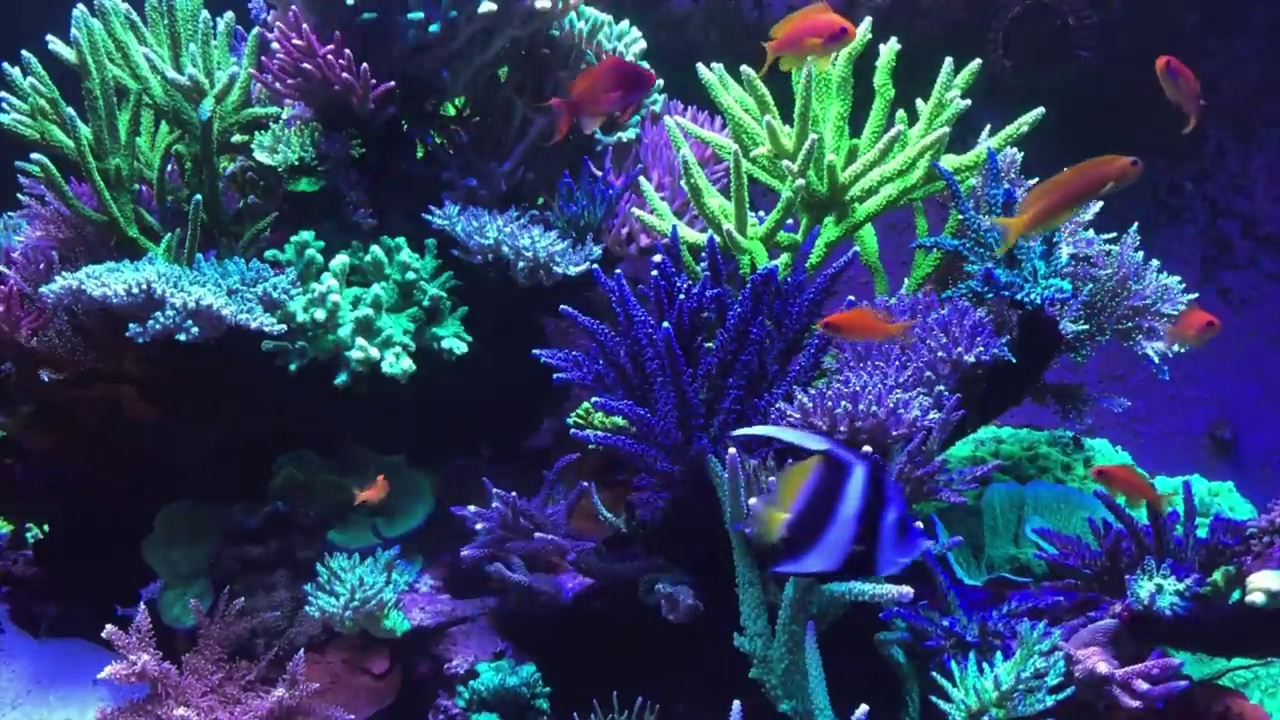fish: (727, 424, 929, 580), (996, 150, 1140, 257), (527, 41, 656, 149), (748, 1, 863, 76), (1152, 53, 1211, 140), (1091, 464, 1180, 514), (816, 307, 918, 343), (1159, 301, 1226, 351), (351, 471, 391, 507)
